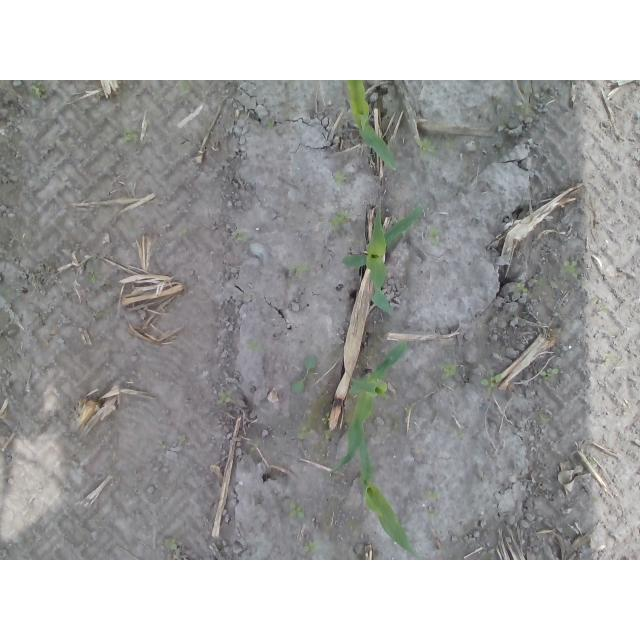Maize: (325, 337, 410, 475), (341, 195, 427, 314), (356, 425, 425, 560), (345, 80, 397, 169)
Weeds: (292, 355, 316, 393), (481, 370, 502, 395), (329, 210, 351, 231), (418, 137, 435, 159), (425, 227, 443, 246), (560, 259, 579, 277), (229, 229, 251, 244), (291, 262, 310, 279), (122, 125, 139, 144), (439, 362, 458, 378), (30, 81, 46, 99), (302, 540, 322, 553), (541, 368, 560, 381), (288, 503, 304, 518), (422, 489, 440, 501), (333, 171, 347, 186), (216, 392, 232, 405), (603, 354, 618, 367), (298, 426, 312, 439), (163, 537, 177, 549), (181, 80, 192, 94), (537, 411, 550, 422), (88, 266, 96, 283), (516, 283, 529, 293), (246, 341, 258, 351), (177, 227, 187, 238), (322, 412, 331, 424), (178, 434, 187, 445), (157, 440, 168, 449), (324, 429, 332, 440), (534, 278, 545, 286), (427, 508, 436, 517), (456, 432, 463, 441), (250, 444, 258, 451), (405, 404, 412, 412), (267, 122, 274, 130), (600, 306, 609, 311), (402, 230, 407, 236)
